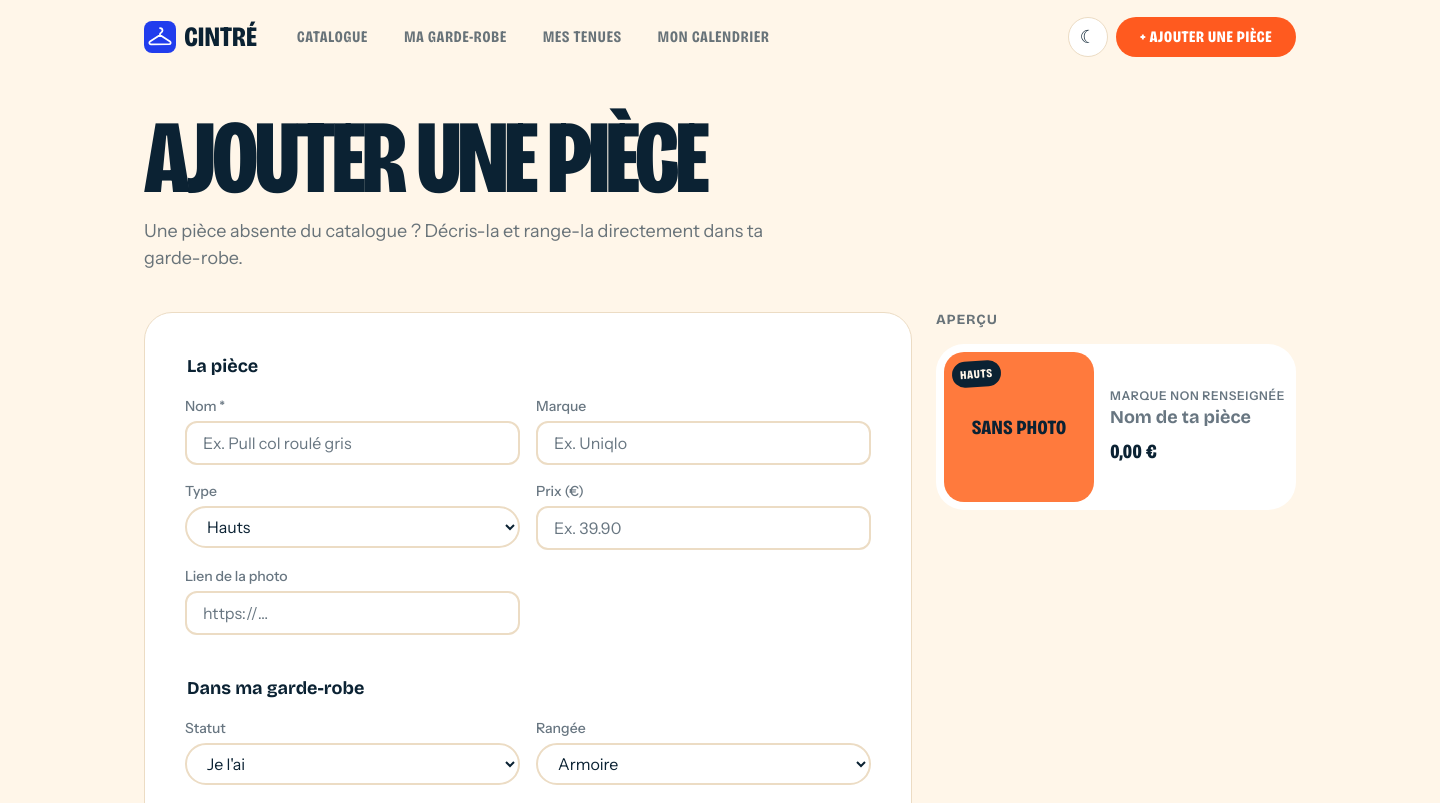
Test case: Ajouter une pièce : enregistrement › envoie un POST, range la pièce en local et affiche la confirmation à droite
This screenshot has width=1440, height=803.
Type "Veste en jean" into the field labelled "Nom *" at (352, 443), box [185,421,520,465]
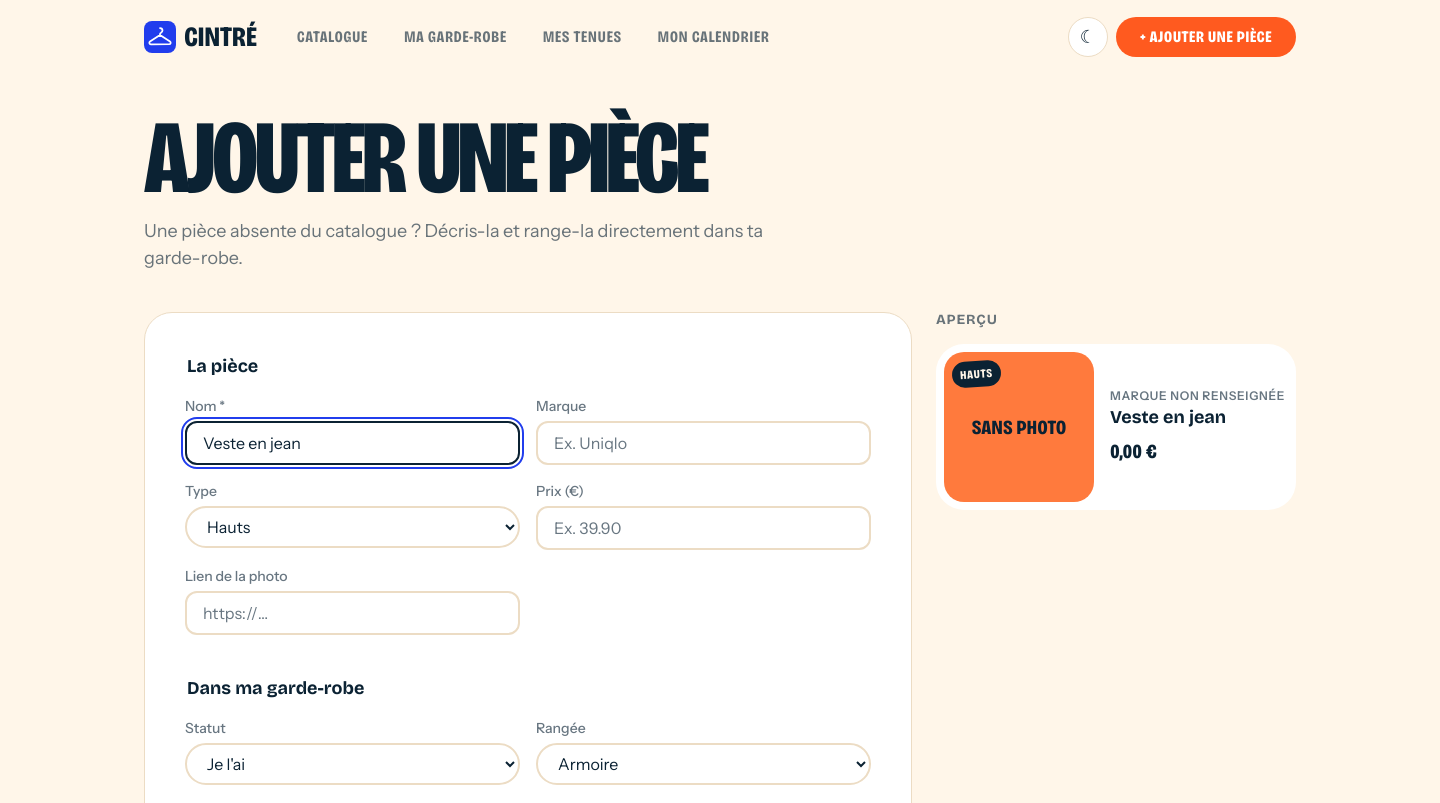
Type "Levi" into the field labelled "Marque" at (704, 443), box [536,421,871,465]
(page scrolled)
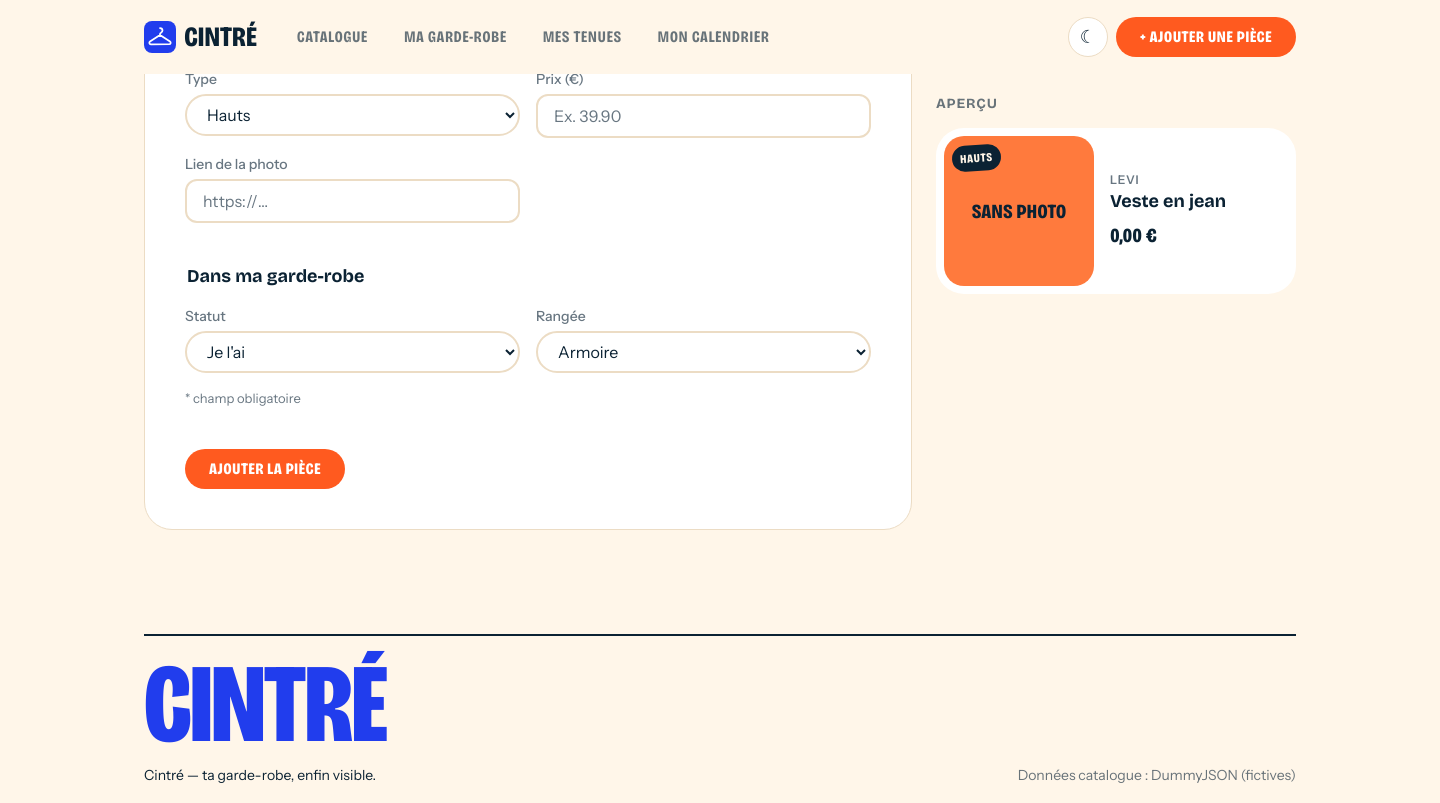
Click the button "Ajouter la pièce" at (265, 469), box [185,449,345,489]
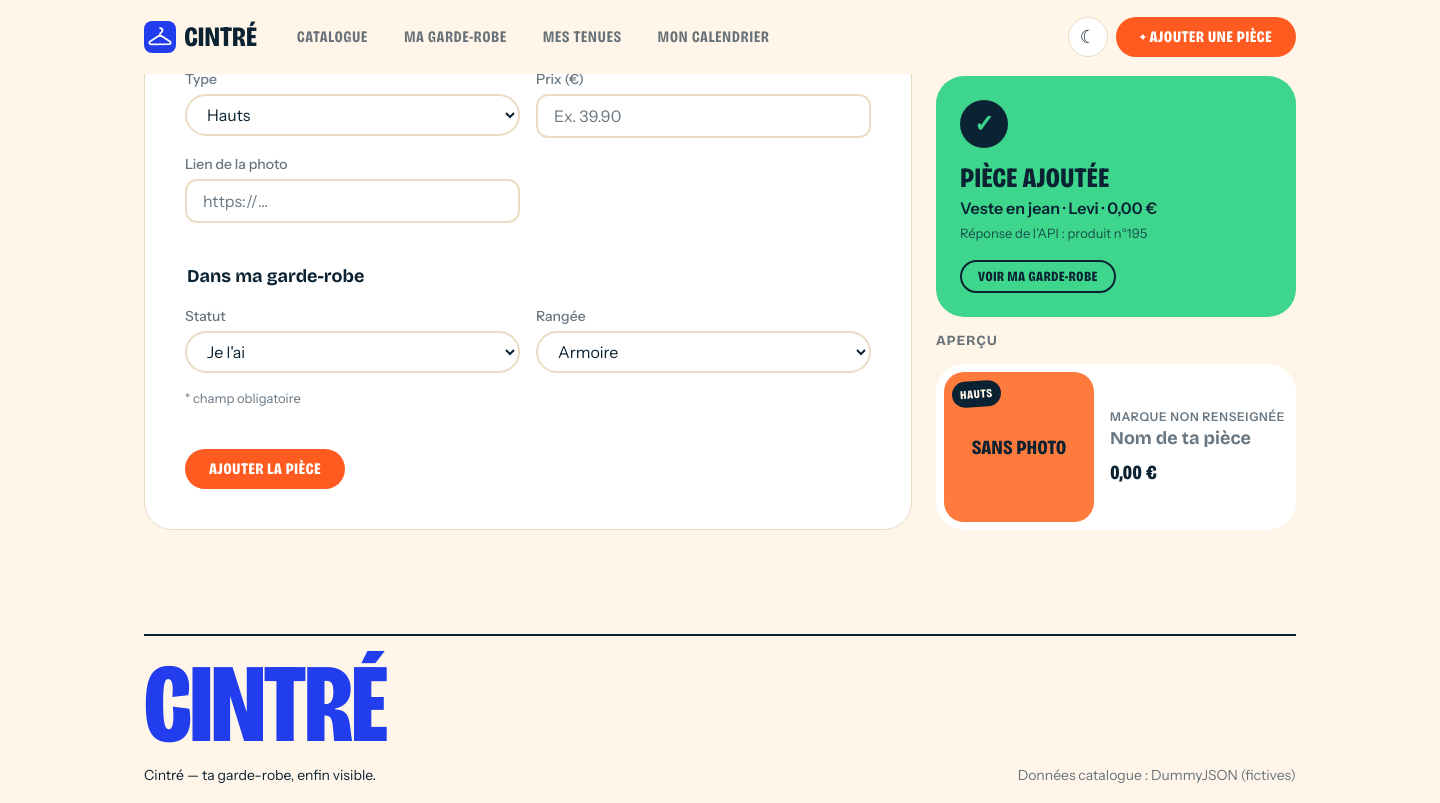
Result: the text "Pièce ajoutée" is shown at [960,161,1109,195]
